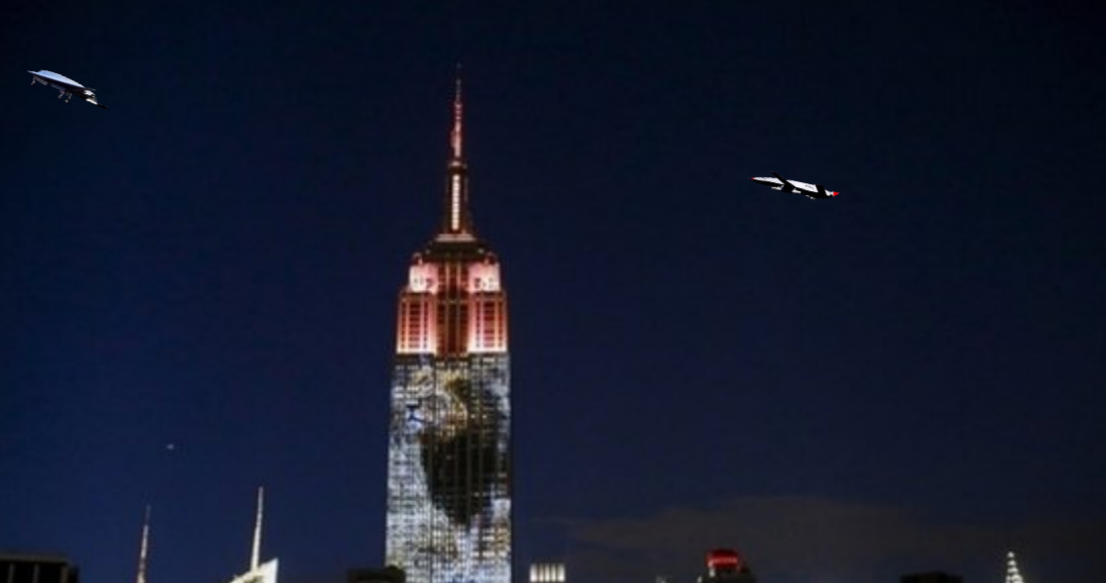military drone: (26, 69, 108, 109), (749, 172, 839, 200)
